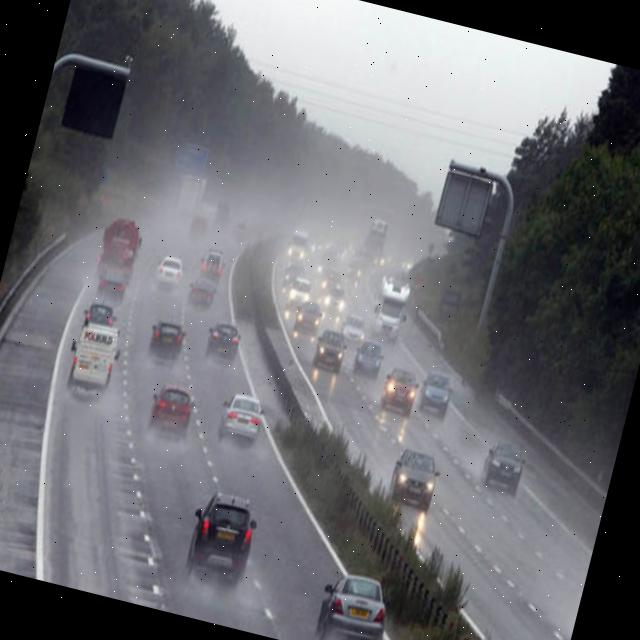bus: (88, 212, 146, 301), (365, 270, 415, 344)
car: (183, 486, 261, 584), (58, 316, 127, 403), (313, 567, 395, 640), (386, 446, 444, 512), (145, 381, 197, 438), (478, 436, 528, 493), (217, 391, 267, 444), (377, 363, 422, 418), (143, 316, 189, 361), (310, 324, 350, 374), (416, 370, 455, 418), (202, 318, 244, 362), (351, 338, 386, 380), (185, 274, 219, 310), (152, 253, 184, 291), (282, 227, 312, 266), (196, 246, 228, 282), (293, 300, 325, 336), (318, 284, 349, 320), (340, 308, 370, 342), (84, 294, 120, 322), (284, 278, 312, 312)
